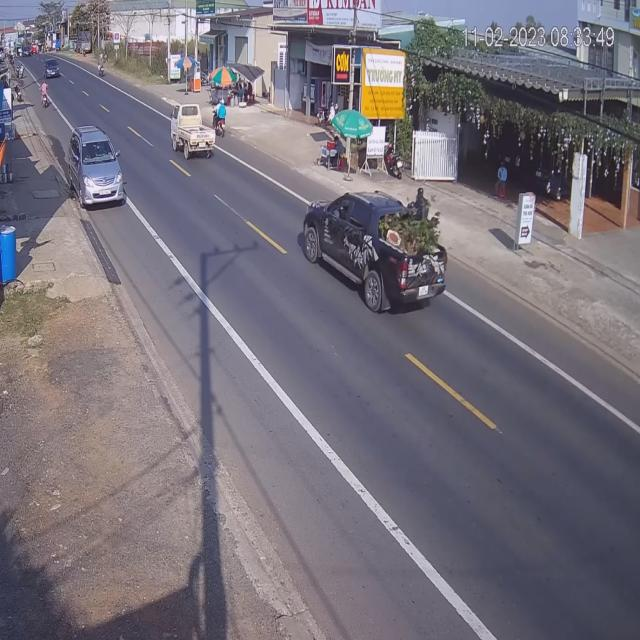car: (306, 186, 453, 314), (68, 128, 126, 210), (45, 58, 61, 80)
motorbike: (410, 188, 430, 218), (214, 98, 227, 137), (41, 82, 49, 110)
truck: (174, 93, 218, 160)
